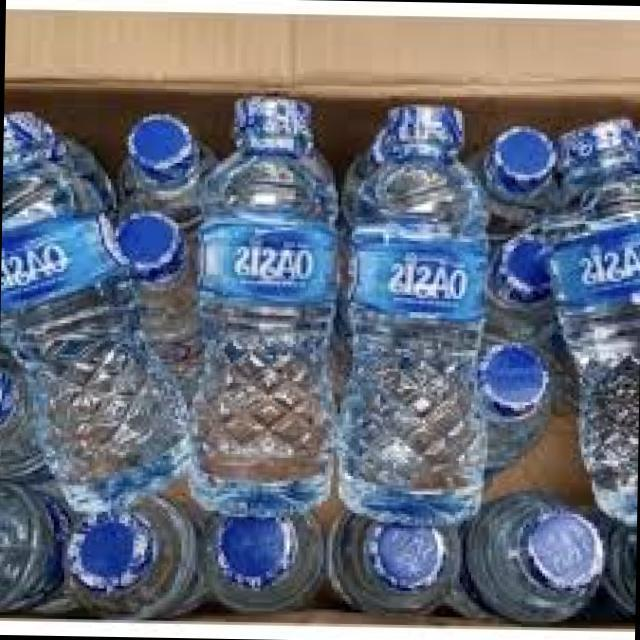good: (0, 85, 203, 520), (152, 89, 311, 490), (317, 102, 468, 516), (517, 120, 640, 512), (457, 472, 624, 634), (82, 213, 212, 393), (54, 482, 190, 624), (200, 471, 324, 622), (88, 110, 216, 230), (322, 497, 456, 609), (461, 116, 572, 208), (446, 344, 548, 434), (429, 244, 527, 328)
